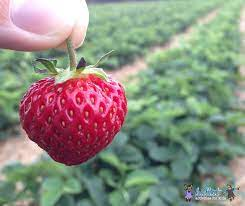ripe: (18, 61, 129, 168)
